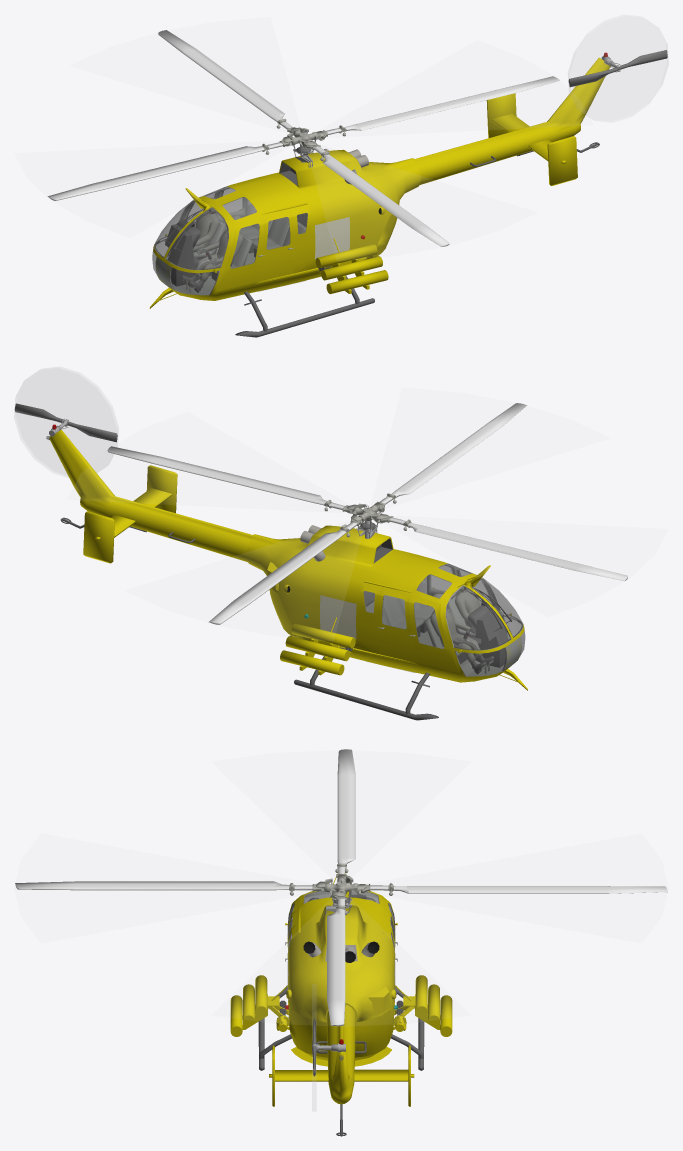
The picture shows the model from 3 angles, top to bottom: view 1: azimuth 30°, elevation 25°; view 2: azimuth 150°, elevation 25°; view 3: azimuth 270°, elevation 25°; orthographic projection. The views are drawn at different scales.
Parts seen in each view (by area): view 1: fuselage, rotor_disc_T, tail, windshield_L, hot, glass_fixed, door_back_L, tailstab_L, door_front_L, tailstab_R, emblem, cockpit (+5 smaller); view 2: fuselage, rotor_disc_T, tail, windshield_R, hot, glass_fixed, tailstab_R, door_back_R, door_front_R, tailstab_L, emblem, skid_R (+5 smaller); view 3: fuselage, hot, tail, reardoor_R, reardoor_L, tailstab_R, tailstab_L.
Part boxes in pixels (x1,y1,x2,y2): fuselage: (153,149,420,300); rotor_disc_T: (568,15,668,122); tail: (414,57,610,185); windshield_L: (166,207,228,269); hot: (241,209,388,293); glass_fixed: (152,186,307,294); door_back_L: (256,209,294,282); tailstab_L: (528,136,577,185); door_front_L: (216,215,264,291); tailstab_R: (486,93,529,138); emblem: (258,217,349,291); cockpit: (165,224,211,286); fuselage: (246,525,524,682); rotor_disc_T: (14,367,118,477); tail: (49,429,253,562); windshield_R: (446,585,510,650); hot: (280,587,434,675); glass_fixed: (364,563,525,676); tailstab_R: (83,511,135,563); door_back_R: (377,587,417,662); door_front_R: (409,594,458,672); tailstab_L: (133,465,177,513); emblem: (320,595,415,672); skid_R: (294,656,438,720); fuselage: (288,891,394,1060); hot: (230,975,452,1036); tail: (326,1004,355,1104); reardoor_R: (355,1009,393,1057); reardoor_L: (289,1009,327,1057); tailstab_R: (354,1045,414,1106); tailstab_L: (269,1045,328,1106).
Size of the model in its own units: 11.78 by 9.85 by 3.9.
